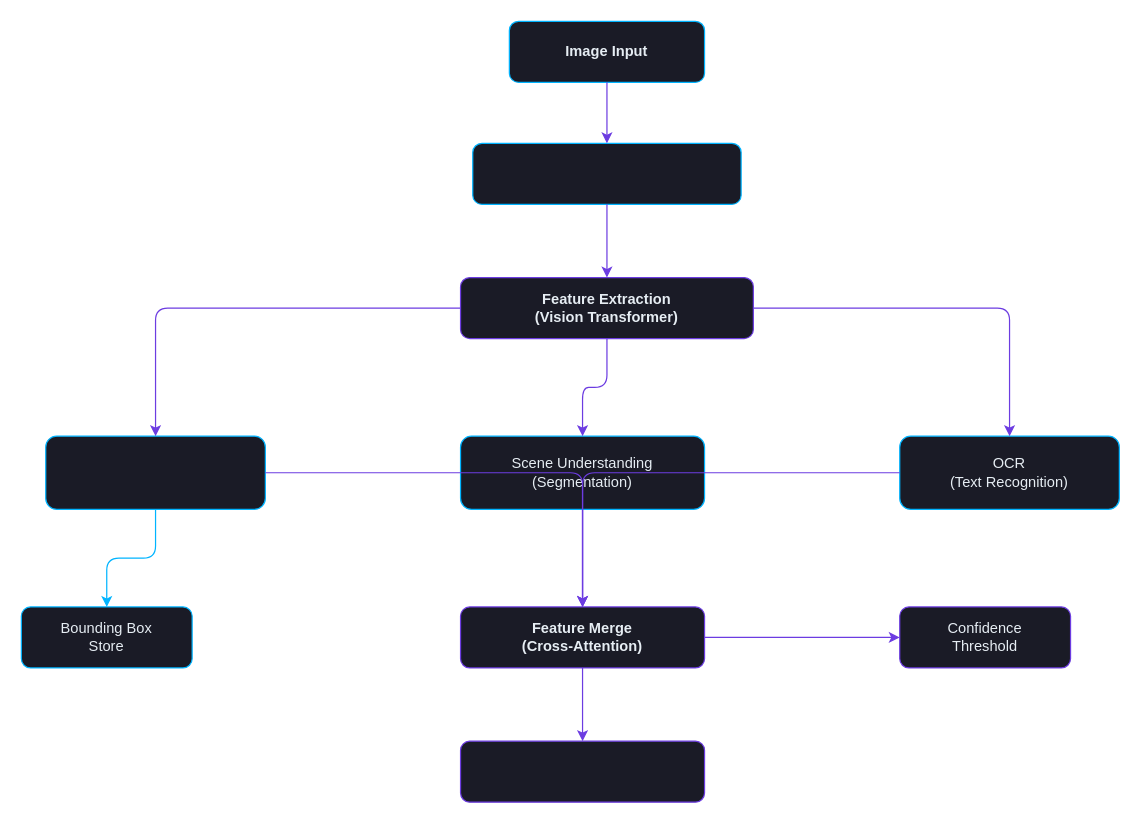
Some shapes in this 1141 by 824 pixel diagram are drawn without their labels. The centre of each missing label's shape, as x and y in pixels:
Description Generation (LLM Decoder): the point at 582,771
Object Detection (YOLO / DETR): the point at 155,472
Pre-processing (Resize / Normalize): the point at 606,173
